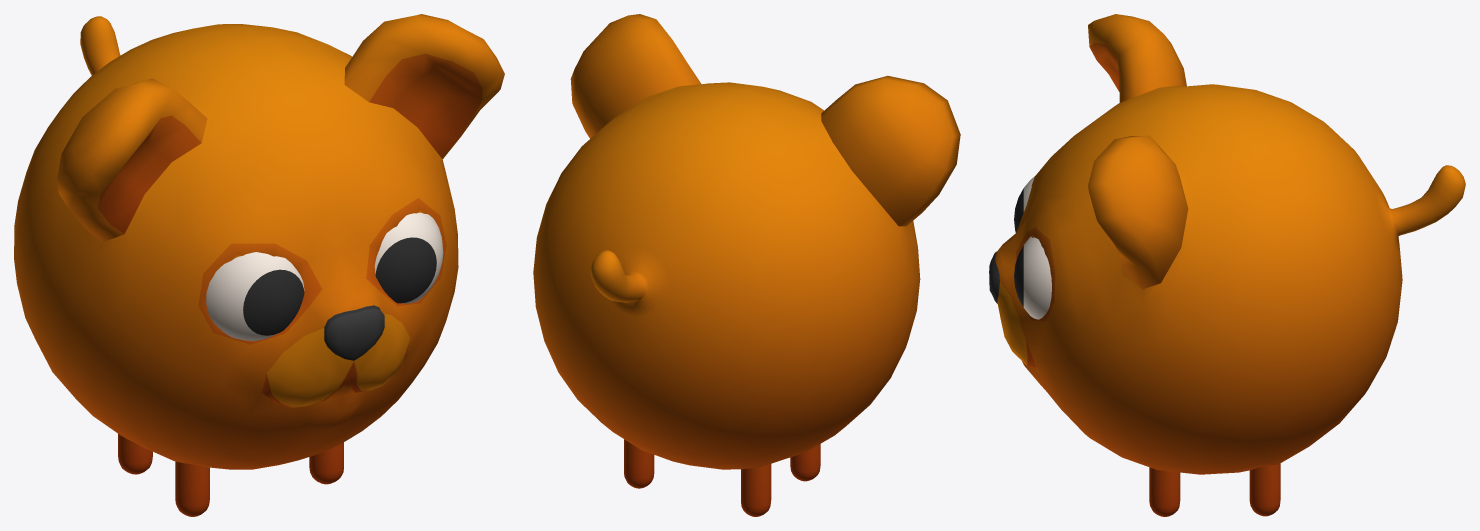
File: Dog.fbx
3 views of the same model, side by side, from view 1: azimuth 30°, elevation 25°; view 2: azimuth 150°, elevation 25°; view 3: azimuth 270°, elevation 25° (orthographic). The views are drawn at different scales.
Parts seen in each view (by area): view 1: DOG_LP; view 2: DOG_LP; view 3: DOG_LP.
Boxes of the visible parts, x1,y1,x2,y2 form: DOG_LP: (14, 14, 504, 516); DOG_LP: (533, 14, 960, 516); DOG_LP: (989, 14, 1465, 516).
Size of the model in its own units: 64.28 by 66.16 by 69.99.
Materials: 1 (1 with a texture image).
